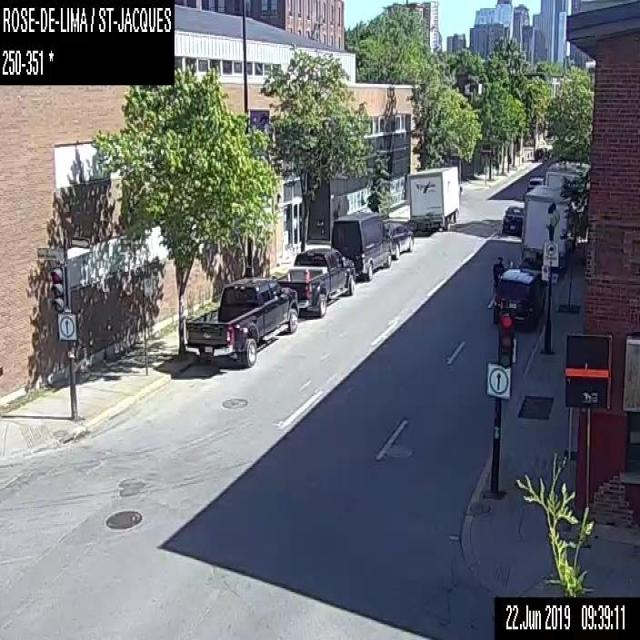pedestrian: (491, 255, 504, 296)
vehicle: (183, 277, 295, 367), (274, 246, 356, 316), (521, 181, 573, 276), (331, 212, 389, 279), (405, 166, 460, 234), (491, 268, 545, 330), (544, 158, 589, 230), (382, 218, 412, 257), (501, 204, 523, 236), (525, 175, 544, 195)
